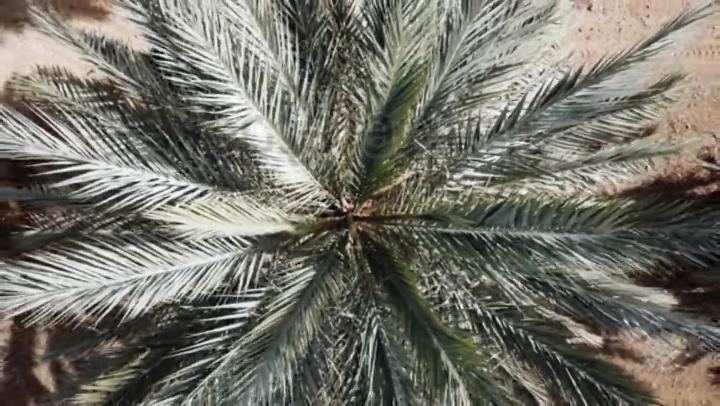Date-Palm-Crown: (199, 75, 485, 376)
